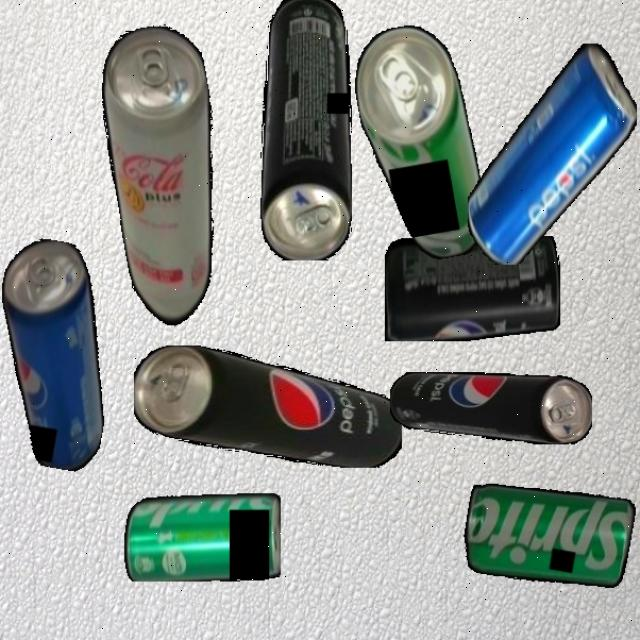debris: (88, 19, 249, 337), (467, 42, 637, 264), (347, 18, 492, 268), (134, 344, 402, 468), (0, 234, 133, 474), (259, 0, 351, 260), (458, 473, 637, 598), (384, 235, 560, 341), (389, 372, 592, 444), (123, 492, 281, 582)
